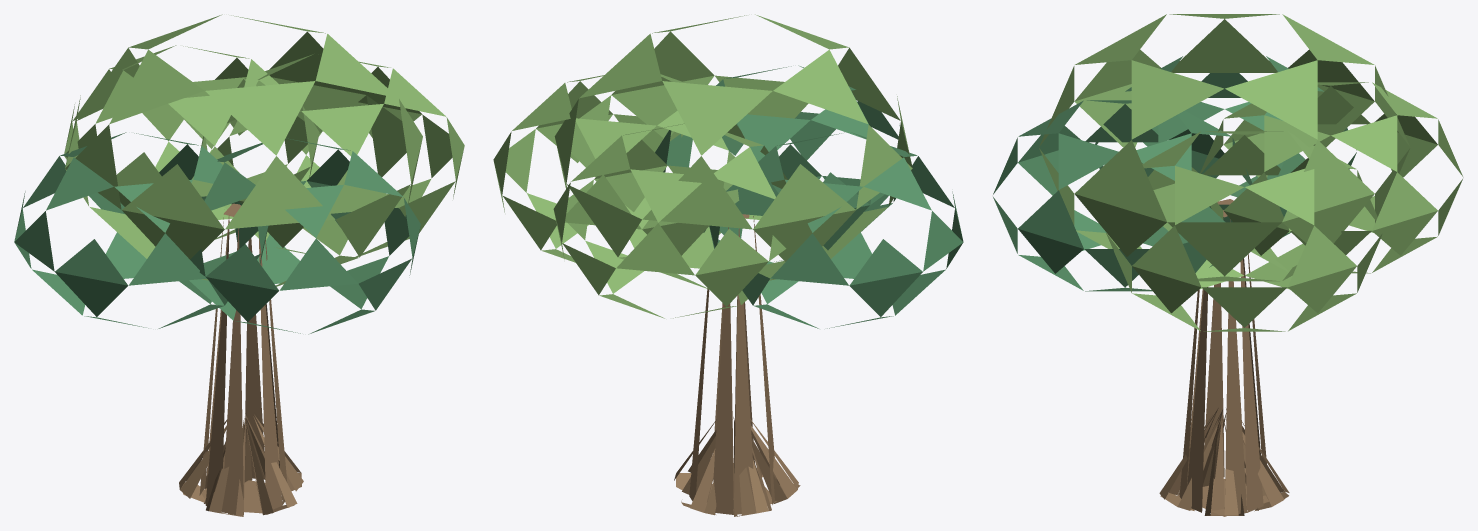
The model's file is jungle-tree.glb.
The picture shows the model from 3 angles, left to right: view 1: azimuth 30°, elevation 25°; view 2: azimuth 150°, elevation 25°; view 3: azimuth 270°, elevation 25°; orthographic projection.
Visible parts, largest first — view 1: Broadleaf canopy, Broadleaf canopy.003, Broadleaf canopy.001, Buttress trunk, Broadleaf canopy.002, Broadleaf canopy.004, Buttress root.004, Buttress root.003, Buttress root.002, Buttress root; view 2: Broadleaf canopy, Broadleaf canopy.004, Broadleaf canopy.001, Broadleaf canopy.002, Buttress trunk, Broadleaf canopy.003, Buttress root.003, Buttress root.002, Buttress root, Buttress root.001; view 3: Broadleaf canopy, Broadleaf canopy.002, Broadleaf canopy.004, Broadleaf canopy.003, Buttress trunk, Broadleaf canopy.001, Buttress root, Buttress root.004, Buttress root.001.
Part boxes in pixels (<box>): Broadleaf canopy: <box>65,14,422,286</box>; Broadleaf canopy.003: <box>189,138,420,334</box>; Broadleaf canopy.001: <box>14,132,268,328</box>; Buttress trunk: <box>199,203,287,514</box>; Broadleaf canopy.002: <box>200,54,464,257</box>; Broadleaf canopy.004: <box>64,45,319,239</box>; Buttress root.004: <box>245,416,297,515</box>; Buttress root.003: <box>206,418,245,516</box>; Buttress root.002: <box>179,419,227,503</box>; Buttress root: <box>245,410,303,496</box>; Broadleaf canopy: <box>554,14,912,289</box>; Broadleaf canopy.004: <box>553,123,787,318</box>; Broadleaf canopy.001: <box>709,132,963,328</box>; Broadleaf canopy.002: <box>493,74,744,262</box>; Buttress trunk: <box>689,214,776,514</box>; Broadleaf canopy.003: <box>655,65,899,261</box>; Buttress root.003: <box>750,419,800,503</box>; Buttress root.002: <box>732,442,771,516</box>; Buttress root: <box>674,419,716,494</box>; Buttress root.001: <box>681,419,732,515</box>; Broadleaf canopy: <box>1039,14,1409,281</box>; Broadleaf canopy.002: <box>1106,131,1382,331</box>; Broadleaf canopy.004: <box>1200,82,1463,273</box>; Broadleaf canopy.003: <box>993,100,1252,291</box>; Buttress trunk: <box>1176,199,1269,516</box>; Broadleaf canopy.001: <box>1095,56,1356,237</box>; Buttress root: <box>1204,418,1244,515</box>; Buttress root.004: <box>1159,413,1223,510</box>; Buttress root.001: <box>1242,422,1289,511</box>.
Size of the model in its own units: 7.4 by 7.57 by 7.1.
